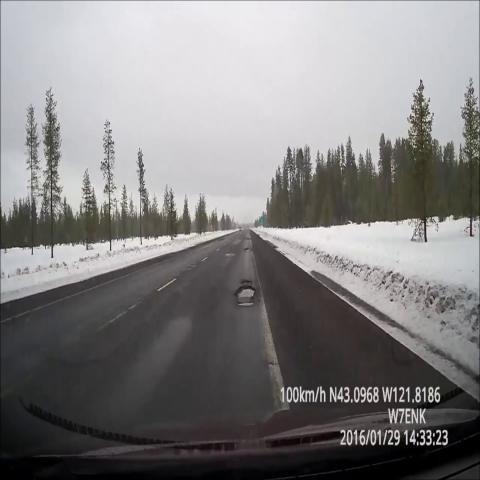pothole: (228, 265, 261, 317), (240, 240, 254, 260), (241, 231, 255, 249), (215, 235, 230, 246)
